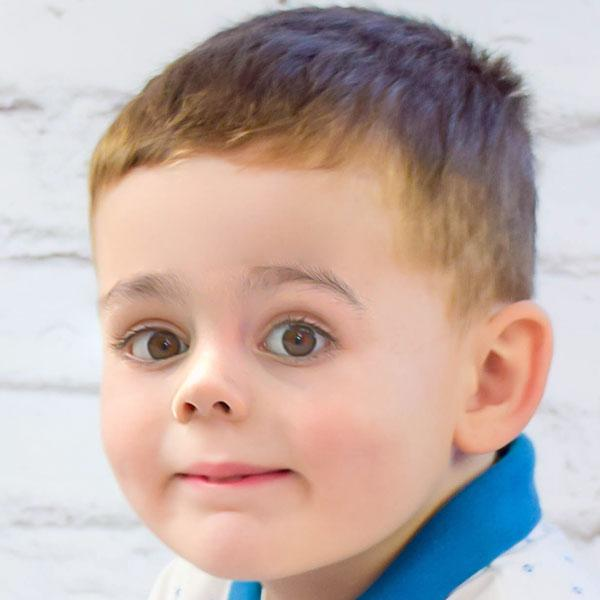Eyes: (252, 304, 349, 375), (106, 309, 198, 378)
